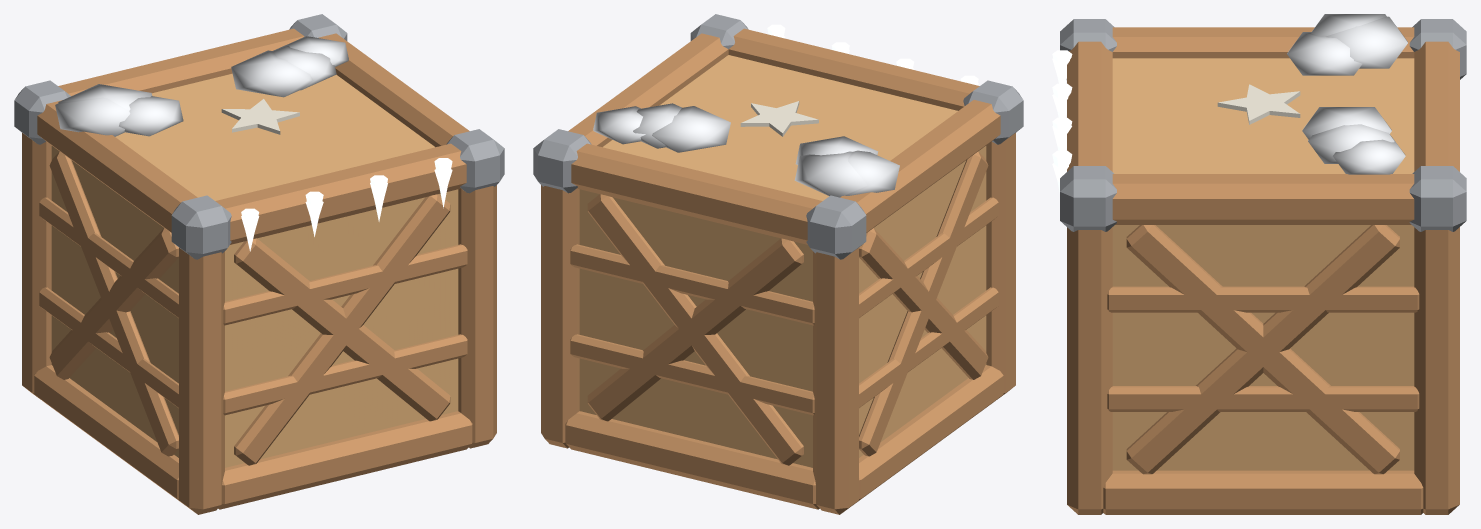
File: crate_ice.glb
3 views of the same model, side by side, from view 1: azimuth 30°, elevation 25°; view 2: azimuth 150°, elevation 25°; view 3: azimuth 270°, elevation 25° (orthographic). The views are drawn at different scales.
Parts seen in each view (by area): view 1: crate_0, crate_1; view 2: crate_0, crate_1; view 3: crate_0, crate_1.
Part boxes in pixels (x1,y1,x2,y2): crate_0: [22, 28, 496, 514]; crate_1: [14, 14, 504, 415]; crate_0: [541, 28, 1015, 514]; crate_1: [533, 14, 1023, 415]; crate_0: [1052, 14, 1459, 514]; crate_1: [1052, 19, 1466, 411].
Size of the model in its own units: 0.89 by 0.8471 by 0.907.
